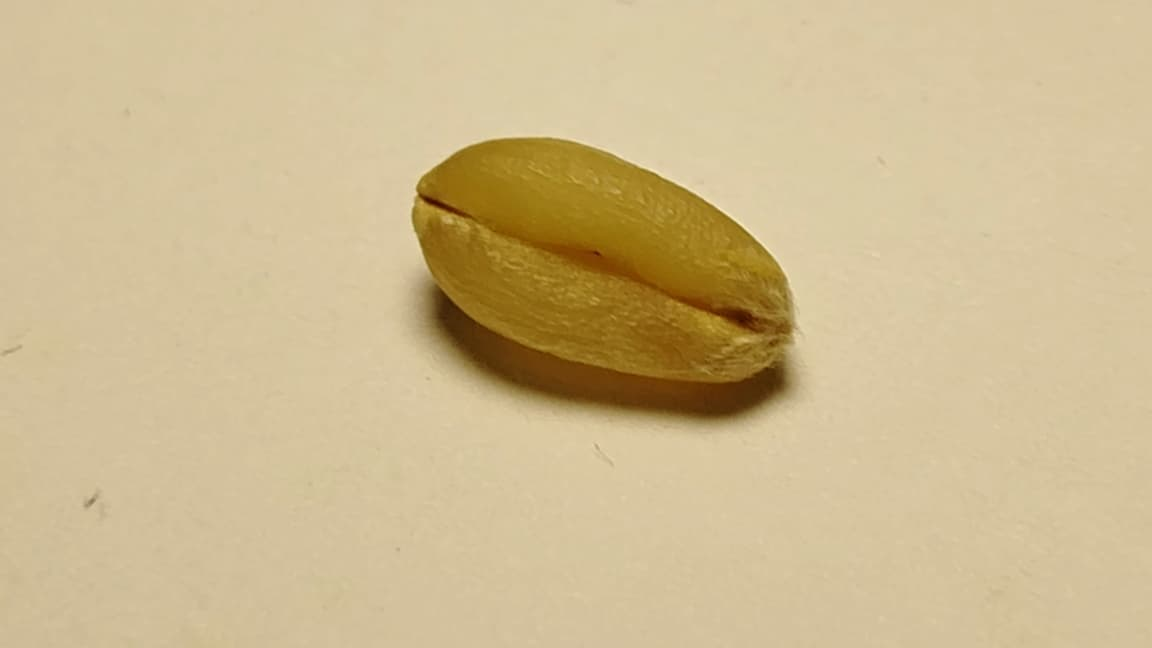healthy: (413, 137, 791, 382)
